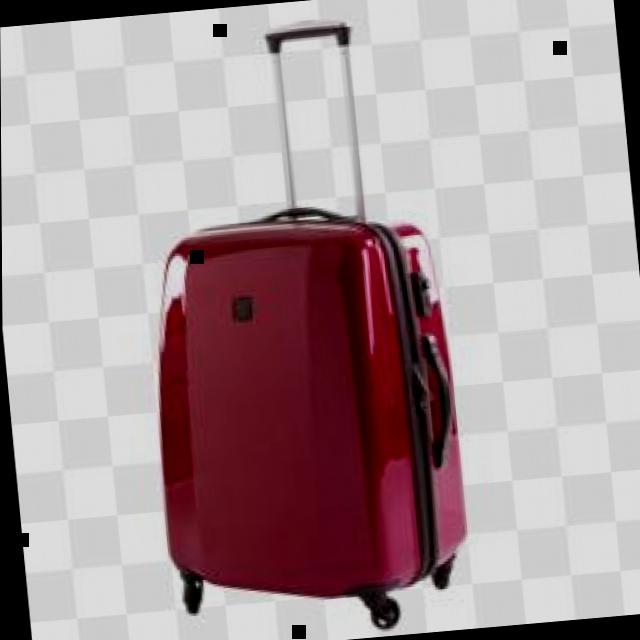luggage: (128, 190, 485, 624)
